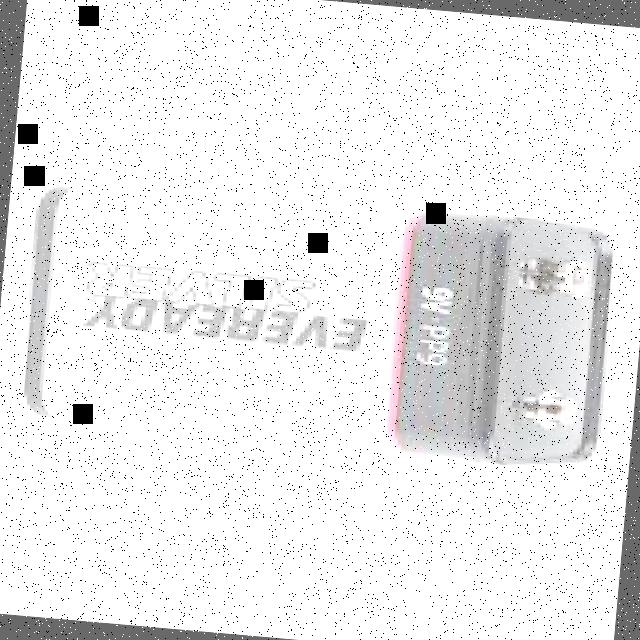battery: (24, 183, 613, 465)
